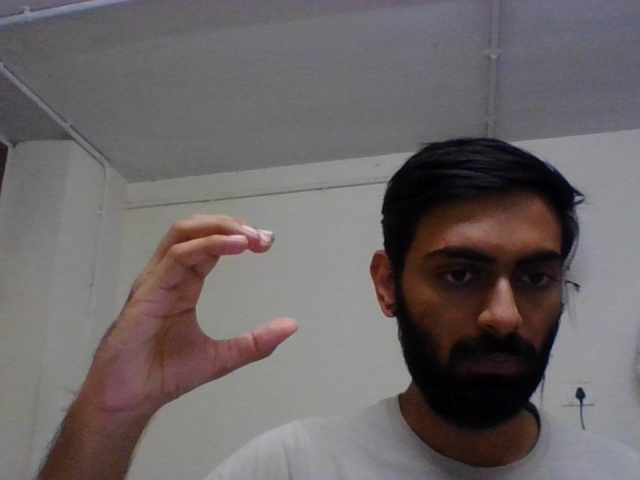C: (67, 207, 305, 415)
